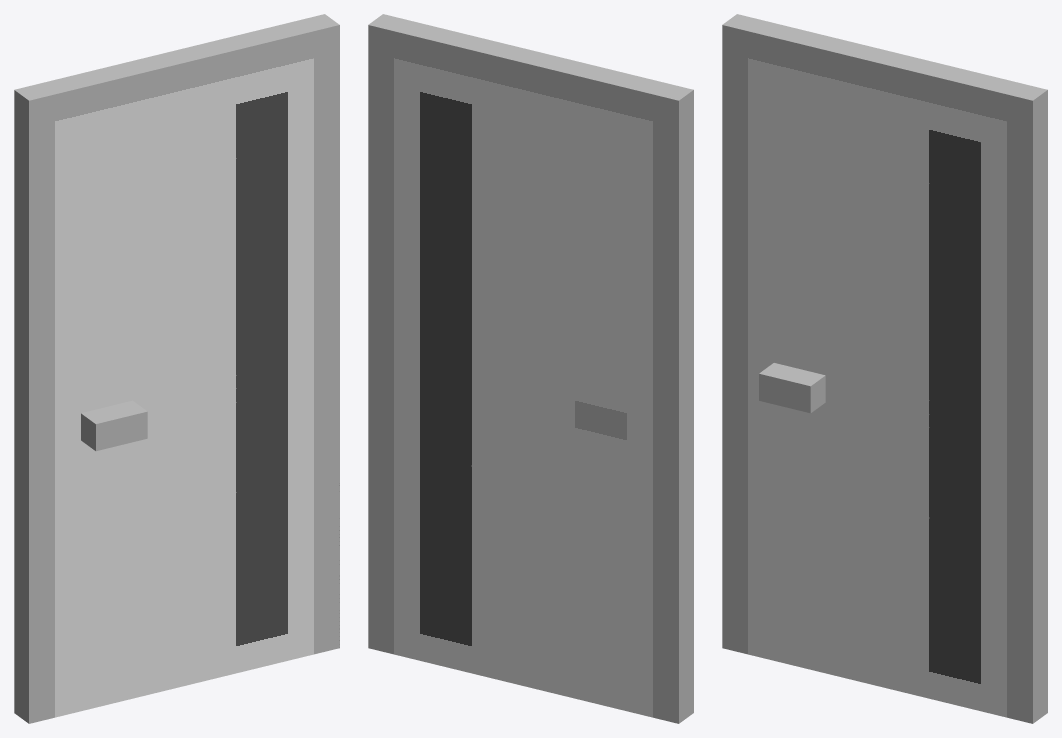
The model's file is door.obj.
The picture shows the model from 3 angles, left to right: view 1: azimuth 30°, elevation 25°; view 2: azimuth 150°, elevation 25°; view 3: azimuth 330°, elevation 25°; orthographic projection.
Parts seen in each view (by area): view 1: door; view 2: door; view 3: door.
Boxes of the visible parts, x1,y1,x2,y2 form: door: [14, 14, 339, 723]; door: [368, 14, 693, 723]; door: [722, 14, 1047, 723].
Bounding box in the file's own units: 1.2 × 2.3 × 0.2.
